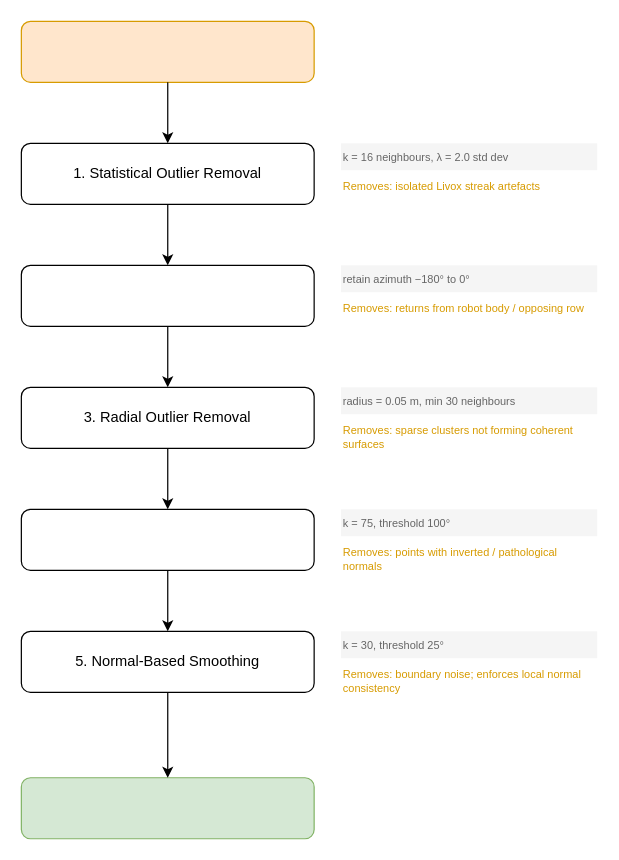
The diagram is 619 pixels wide and 860 high, and some of its shapes have lost their labels. The box of each missing label's shape, as (x1, y1, x2, y2) in pixels:
2. Angular Filtering: (20, 264, 314, 326)
4. Normal-Based Filtering: (20, 508, 314, 570)
Filtered Vine Point Cloud → ICP: (20, 777, 314, 839)
Non-Ground Cloud (from Patchwork++): (20, 20, 314, 82)
